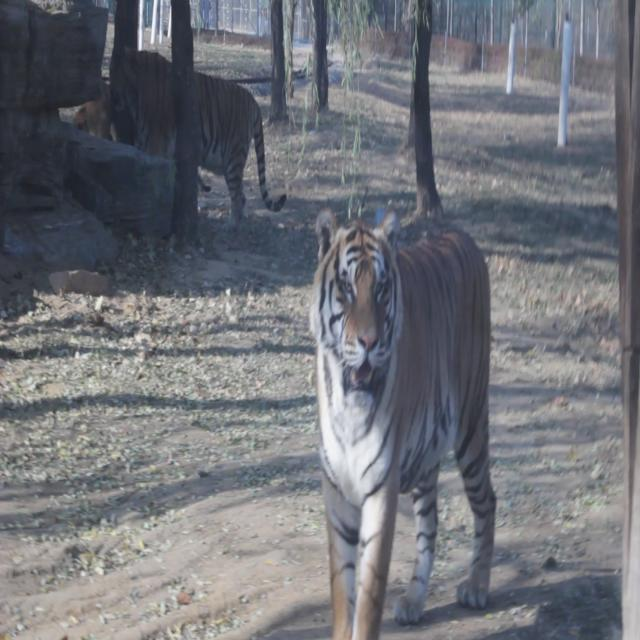Tiger: (298, 196, 503, 640), (111, 38, 292, 235)
